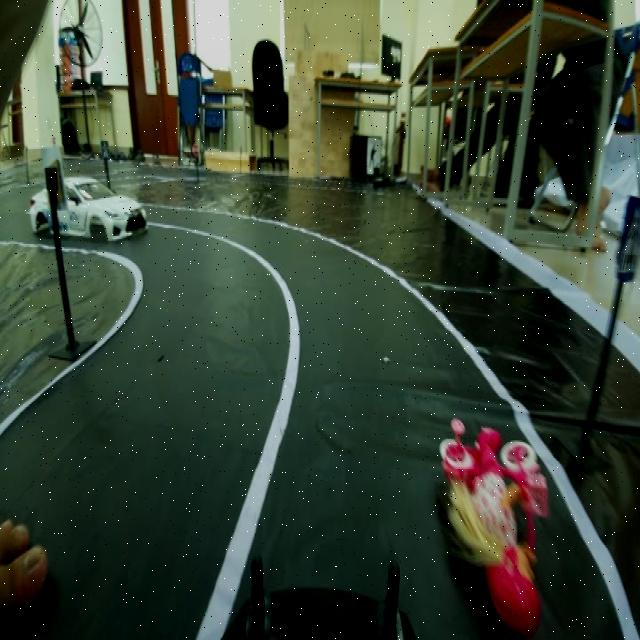crosswalk: (606, 192, 640, 277)
